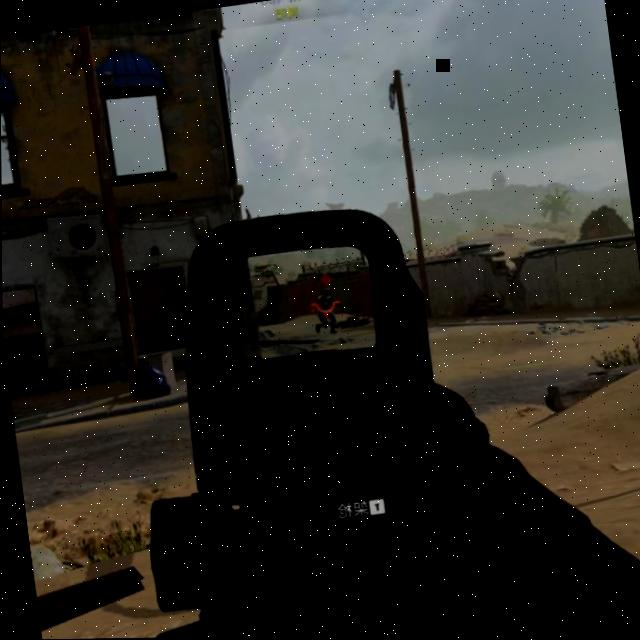MW2_body: (307, 273, 338, 338)
